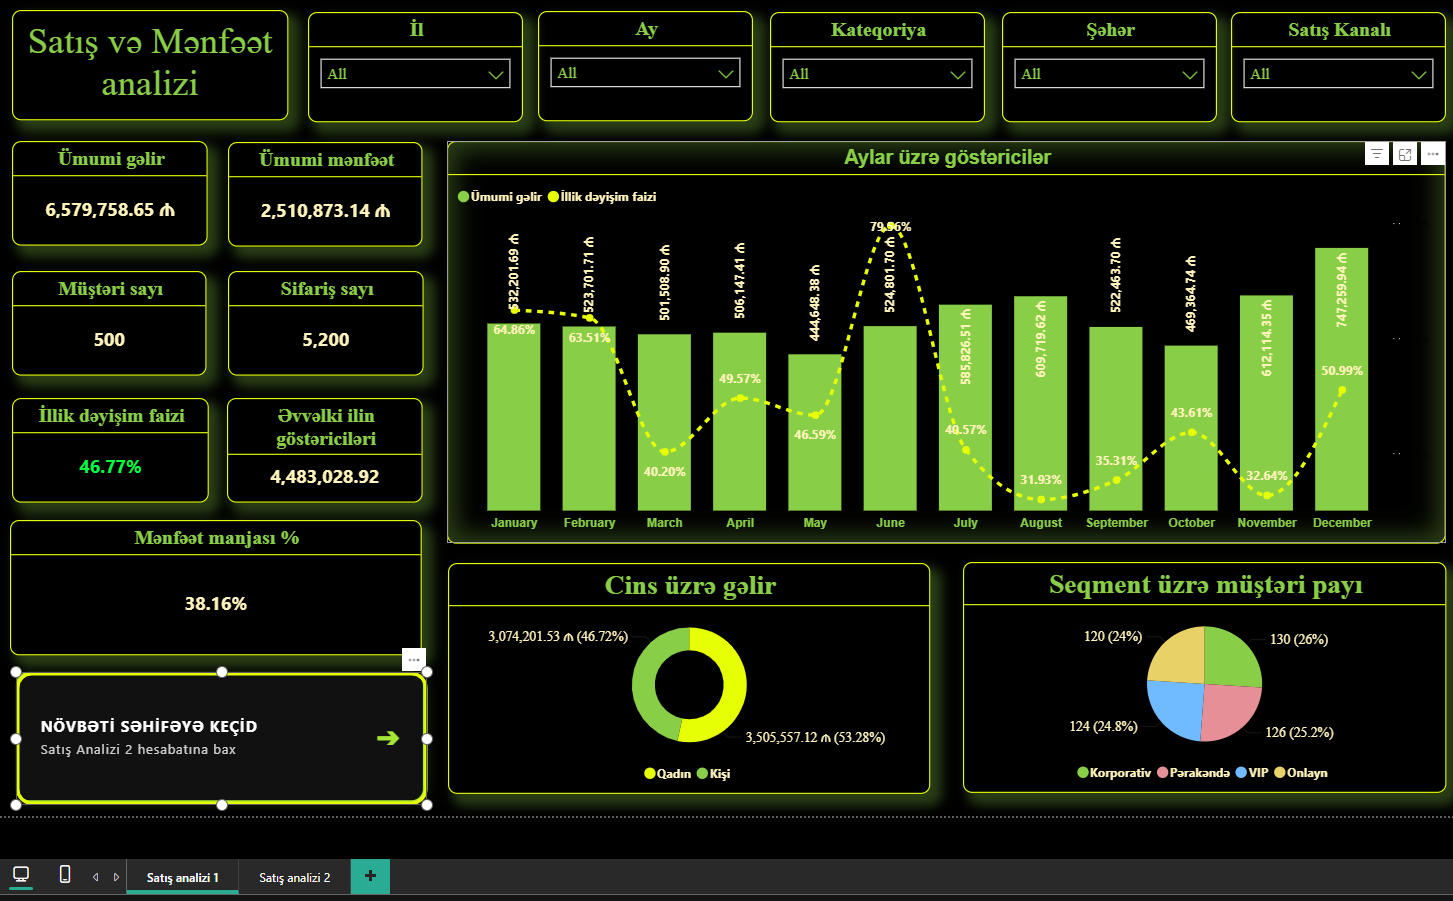

What the dashboard file says about the page in this screenshot:
{"tool":"powerbi","page":{"name":"Satış analizi 1","canvas":[1280,720],"ordinal":0},"visuals":[{"type":"card","title":"Ümumi gəlir","fields":{"Values":["DAXs.Ümumi gəlir"]},"box":[11.1,126.7,172.2,92],"z":0},{"type":"card","title":"Ümumi mənfəət","fields":{"Values":["DAXs.Ümumi mənfəət"]},"box":[201.4,127.1,171.4,92],"z":1000},{"type":"card","title":"Sifariş sayı","fields":{"Values":["DAXs.Sifariş sayı"]},"box":[201.1,241.1,172.2,92],"z":2000},{"type":"card","title":"Müştəri sayı","fields":{"Values":["DAXs.Unikal müştəri sayı"]},"box":[11.1,241.1,171.1,92.2],"z":3000},{"type":"card","title":"Mənfəət manjası %","fields":{"Values":["DAXs.Mənfəət Marjası %"]},"box":[10,460,362.2,118.9],"z":4000},{"type":"card","title":"Əvvəlki ilin göstəriciləri","fields":{"Values":["DAXs.Əvvəlki ilin gəliri"]},"box":[200,352.2,172.2,92],"z":5000},{"type":"card","title":"İllik dəyişim faizi","fields":{"Values":["DAXs.İllik dəyişim faizi"]},"box":[11.1,352.2,173.3,92],"z":6000},{"type":"lineClusteredColumnComboChart","title":"Aylar üzrə göstəricilər","fields":{"Category":["tarix.Date.Variation.Date Hierarchy.Month"],"Y":["DAXs.Ümumi gəlir"],"Y2":["DAXs.İllik dəyişim faizi"]},"box":[393.8,126.8,878.4,353.6],"z":7000},{"type":"donutChart","title":"Cins üzrə gəlir","fields":{"Category":["Satış.Cins"],"Y":["DAXs.Ümumi gəlir"]},"box":[394.3,497.1,424.3,202.9],"z":8000},{"type":"slicer","title":"İl","fields":{"Values":["tarix.Date.Variation.Date Hierarchy.Year"]},"box":[271.4,12.9,189,97.1],"z":9000},{"type":"slicer","title":"Ay","fields":{"Values":["tarix.Date.Variation.Date Hierarchy.Month"]},"box":[474,12,189,97],"z":10000},{"type":"slicer","title":"Kateqoriya","fields":{"Values":["Satış.Kateqoriya"]},"box":[678,12.9,189,97.1],"z":11000},{"type":"slicer","title":"Şəhər","fields":{"Values":["Satış.Şəhər"]},"box":[882,12.9,189,97.1],"z":12000},{"type":"slicer","title":"Satış Kanalı","fields":{"Values":["Satış.Satış_Kanalı"]},"box":[1083,12.9,189,97.1],"z":13000},{"type":"textbox","box":[11.4,11.4,242.9,97.1],"z":14000},{"type":"pieChart","title":"Seqment üzrə müştəri payı","fields":{"Category":["Satış.Seqment"],"Y":["DAXs.Unikal müştəri sayı"]},"box":[847.4,496.9,424.7,203.1],"z":15000},{"type":"htmlContent443BE3AD55E043BF878BED274D3A6865","fields":{"content":["DAXs.Səhifə Keçid Düyməsi"]},"box":[10,587.8,388.9,132.2],"z":16000},{"type":"actionButton","box":[14.5,593.2,361.8,116.8],"z":17000}]}

Visuals, with their boxes in screenshot pixels (x1, y1, x2, y2):
"Ümumi gəlir" card: bbox=[12, 138, 205, 241]
"Ümumi mənfəət" card: bbox=[225, 139, 417, 241]
"Sifariş sayı" card: bbox=[225, 266, 418, 369]
"Müştəri sayı" card: bbox=[12, 266, 204, 369]
"Mənfəət manjası %" card: bbox=[11, 511, 417, 644]
"Əvvəlki ilin göstəriciləri" card: bbox=[224, 390, 417, 493]
"İllik dəyişim faizi" card: bbox=[12, 390, 206, 493]
"Aylar üzrə göstəricilər" lineClusteredColumnComboChart: bbox=[441, 138, 1424, 534]
"Cins üzrə gəlir" donutChart: bbox=[441, 553, 916, 780]
"İl" slicer: bbox=[304, 11, 515, 119]
"Ay" slicer: bbox=[531, 10, 742, 118]
"Kateqoriya" slicer: bbox=[759, 11, 971, 119]
"Şəhər" slicer: bbox=[987, 11, 1199, 119]
"Satış Kanalı" slicer: bbox=[1212, 11, 1424, 119]
textbox: bbox=[13, 9, 285, 118]
"Seqment üzrə müştəri payı" pieChart: bbox=[949, 552, 1424, 780]
htmlContent443BE3AD55E043BF878BED274D3A6865 - DAXs.Səhifə Keçid Düyməsi: bbox=[11, 654, 447, 802]
actionButton: bbox=[16, 660, 421, 791]
